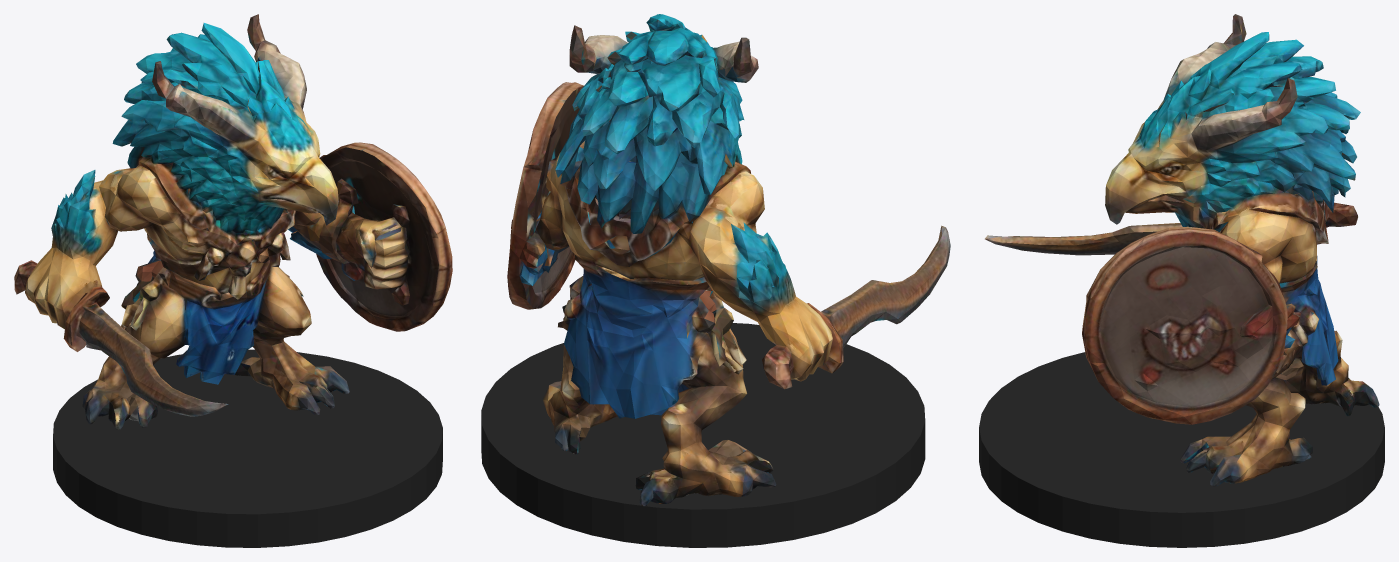
The model's file is wc-tzaangor-warrior-blade-shield.glb.
3 views of the same model, side by side, from view 1: azimuth 30°, elevation 25°; view 2: azimuth 150°, elevation 25°; view 3: azimuth 270°, elevation 25° (orthographic). The views are drawn at different scales.
Visible parts, largest first — view 1: figure, base; view 2: figure, base; view 3: figure, base.
Part boxes in pixels (x1,y1,x2,y2): figure: [14, 14, 452, 429]; base: [53, 349, 442, 547]; figure: [507, 14, 950, 506]; base: [481, 323, 925, 547]; figure: [985, 14, 1379, 486]; base: [979, 352, 1384, 547].
Bounding box in the file's own units: 1.26 × 1.47 × 1.26.
Materials: 2 (1 with a texture image).
